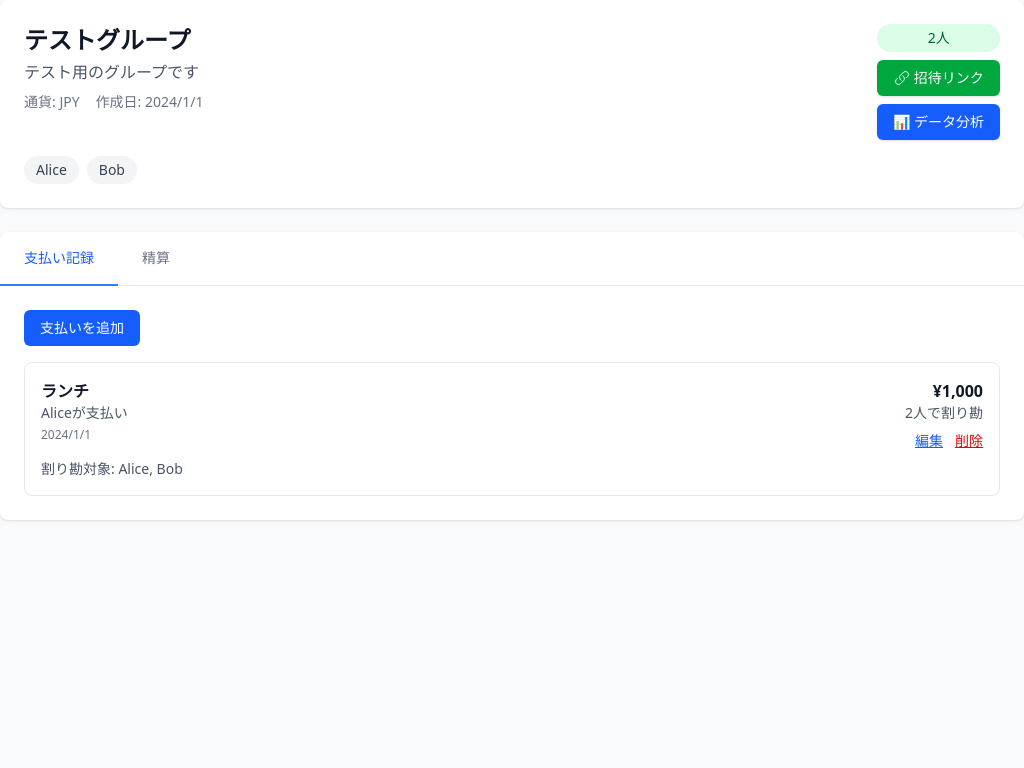
GroupPage › ユーザーが確認をキャンセルした場合に支払いを削除しない
Expected: the heading "ランチ" is shown, [41, 380, 89, 402]
Note: Click the delete button
Click the button "削除": click(969, 441) [955, 431, 983, 451]
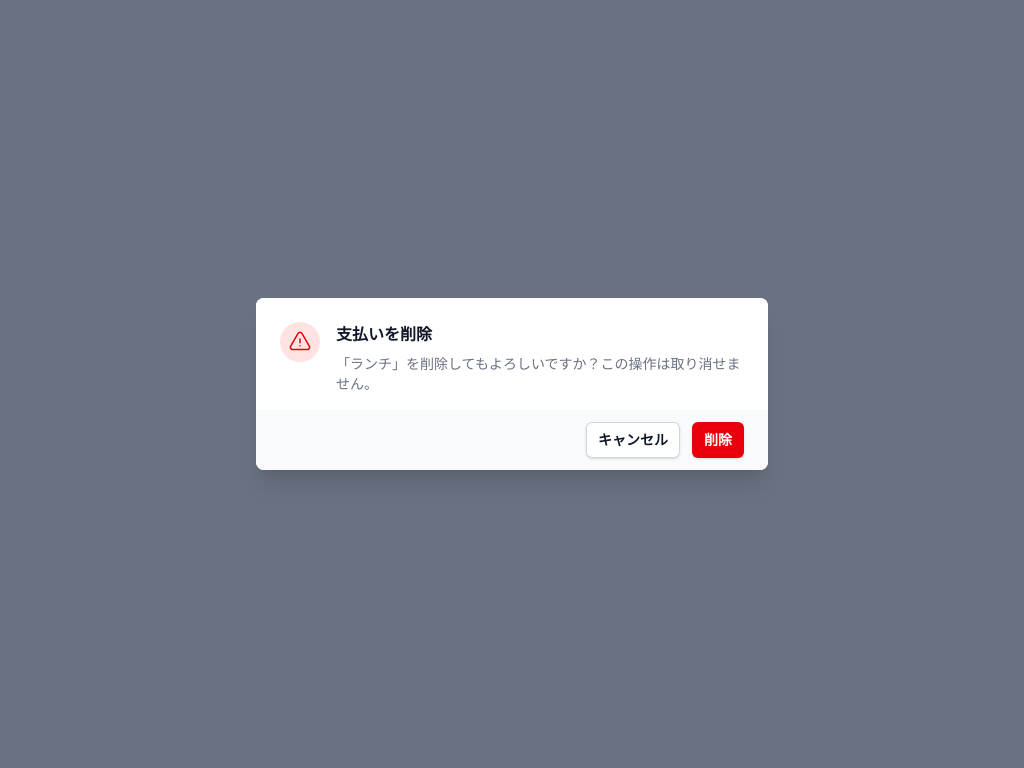
Result: the heading "支払いを削除" is shown at [336, 323, 432, 345]
Result: the text "「ランチ」を削除してもよろしいですか？この操作は取り消せません。" is shown at [336, 354, 744, 394]
Note: Click the cancel button in the modal
Click the button "キャンセル": click(633, 440) [586, 422, 680, 458]
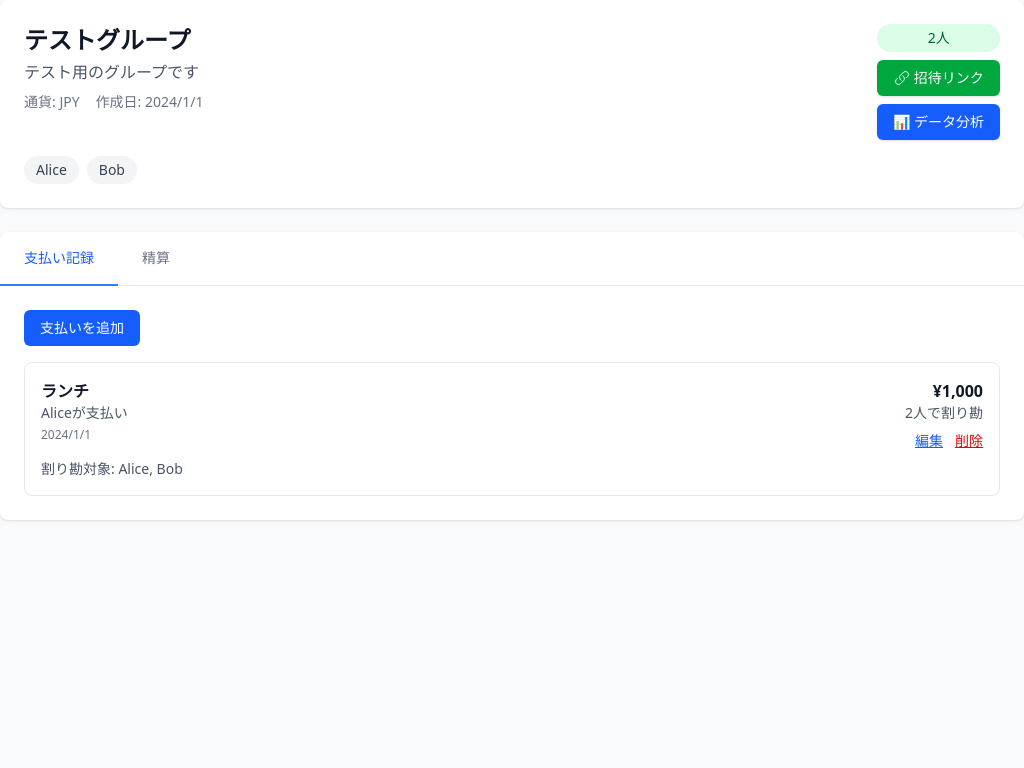
Expected: the heading "ランチ" is shown, [41, 380, 89, 402]
Result: the heading "支払いを削除" is gone
